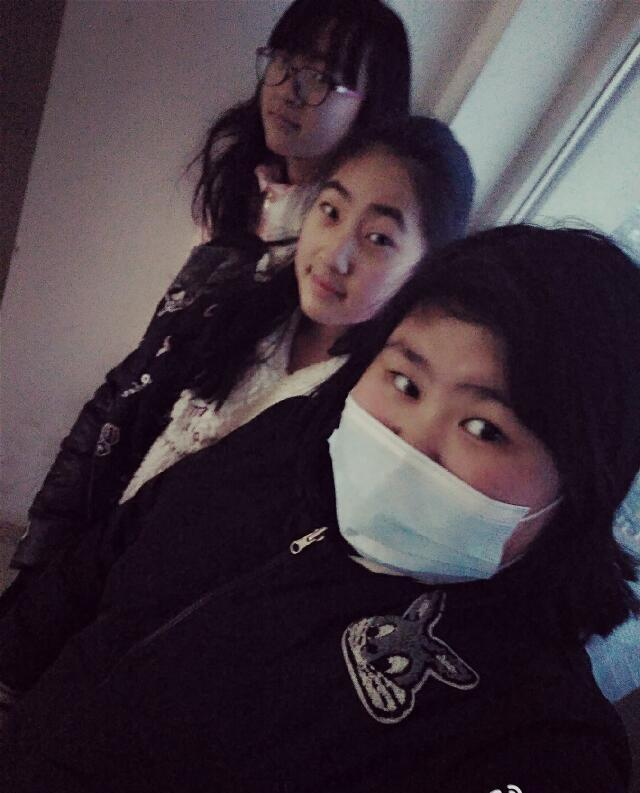NONE: (296, 180, 415, 319), (263, 44, 367, 158)
WRONG: (322, 331, 578, 587)
